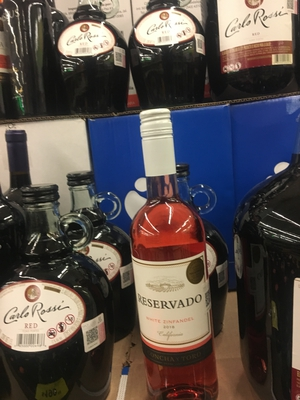reservado white zinfandel: (114, 109, 231, 391)
